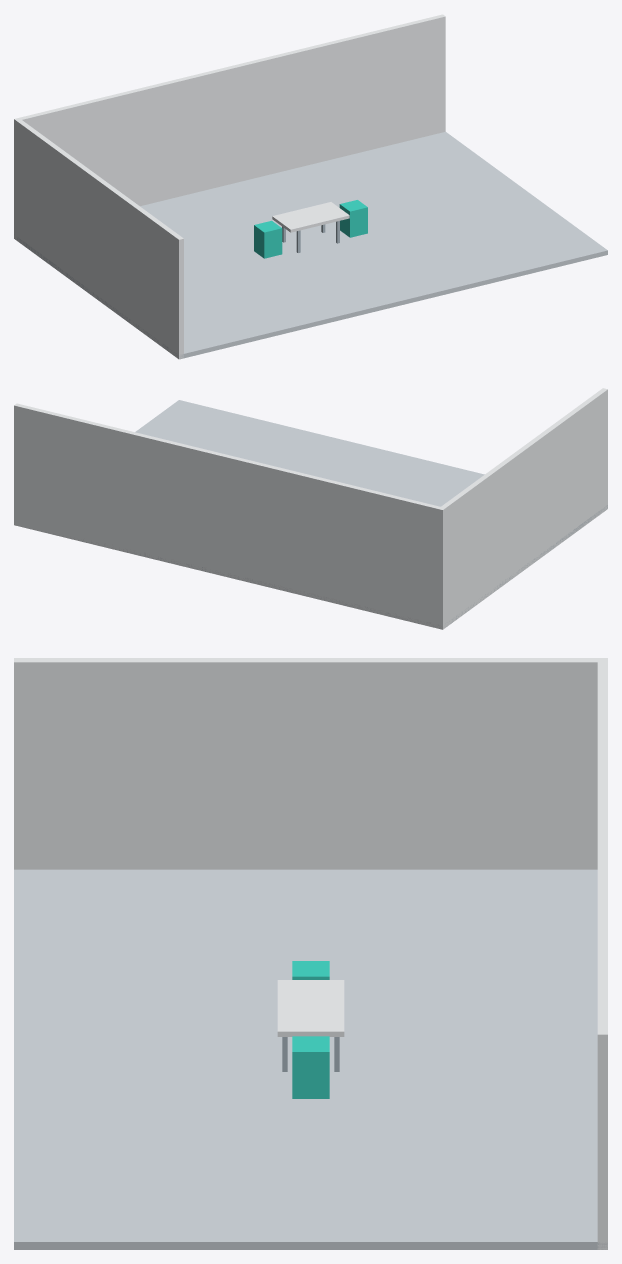
3 renders of one model, top to bottom at view 1: azimuth 30°, elevation 25°; view 2: azimuth 150°, elevation 25°; view 3: azimuth 270°, elevation 25°, orthographic. The views are drawn at different scales.
Visible parts, largest first — view 1: Exhibition Booth Concept; view 2: Exhibition Booth Concept; view 3: Exhibition Booth Concept.
Boxes of the visible parts, bbox=[...] form: Exhibition Booth Concept: bbox=[14, 14, 607, 359]; Exhibition Booth Concept: bbox=[14, 388, 607, 629]; Exhibition Booth Concept: bbox=[14, 658, 607, 1249].
Size of the model in its own units: 12 by 3.2 by 8.
